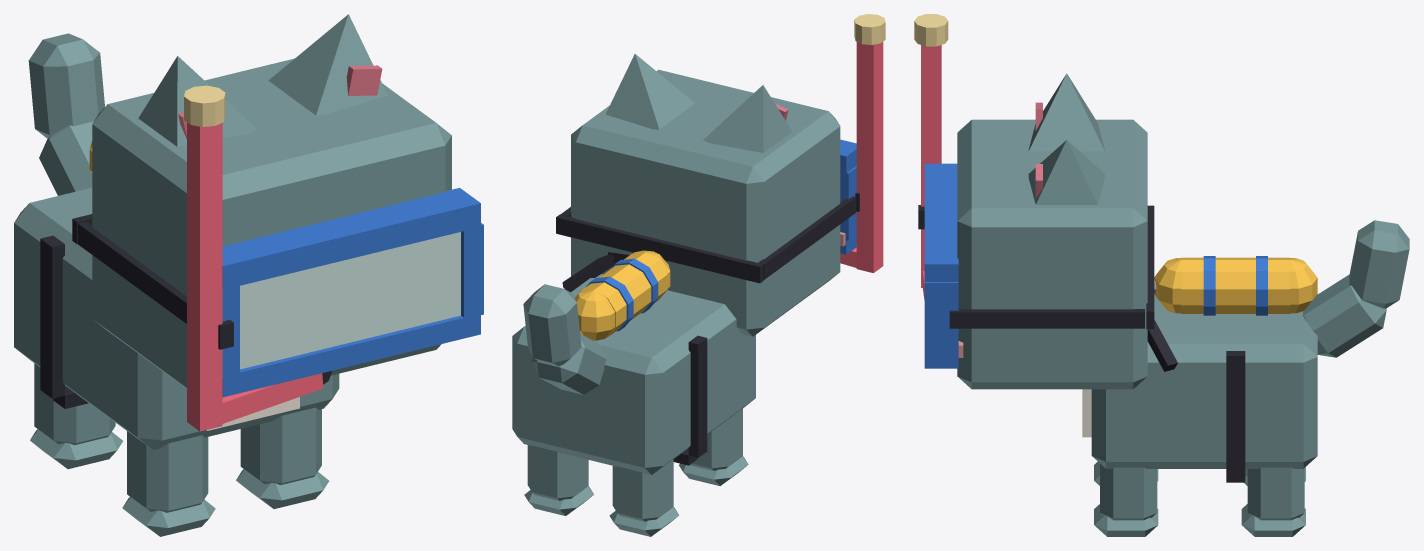
The model's file is CatCafe_Cat_Glimmer.fbx.
The picture shows the model from 3 angles, left to right: view 1: azimuth 30°, elevation 25°; view 2: azimuth 150°, elevation 25°; view 3: azimuth 270°, elevation 25°; orthographic projection. The views are drawn at different scales.
Visible parts, largest first — view 1: CatCafe_Cat_Glimmer_Head, CatCafe_Cat_Glimmer_Prop, CatCafe_Cat_Glimmer_Body, CatCafe_Cat_Glimmer_Prop_Glass, CatCafe_Cat_Glimmer_Tail, CatCafe_Cat_Glimmer_LegF2, CatCafe_Cat_Glimmer_LegF1, CatCafe_Cat_Glimmer_EarL, CatCafe_Cat_Glimmer_LegB2, CatCafe_Cat_Glimmer_Prop2, CatCafe_Cat_Glimmer_EarR; view 2: CatCafe_Cat_Glimmer_Head, CatCafe_Cat_Glimmer_Body, CatCafe_Cat_Glimmer_Prop, CatCafe_Cat_Glimmer_Prop2, CatCafe_Cat_Glimmer_Tail, CatCafe_Cat_Glimmer_LegB2, CatCafe_Cat_Glimmer_EarL, CatCafe_Cat_Glimmer_LegB1, CatCafe_Cat_Glimmer_EarR, CatCafe_Cat_Glimmer_LegF2; view 3: CatCafe_Cat_Glimmer_Head, CatCafe_Cat_Glimmer_Body, CatCafe_Cat_Glimmer_Prop, CatCafe_Cat_Glimmer_Prop2, CatCafe_Cat_Glimmer_Tail, CatCafe_Cat_Glimmer_LegF1, CatCafe_Cat_Glimmer_LegB1, CatCafe_Cat_Glimmer_EarR, CatCafe_Cat_Glimmer_EarL.
Part boxes in pixels (x1,y1,x2,y2): CatCafe_Cat_Glimmer_Head: (92,58,451,388); CatCafe_Cat_Glimmer_Prop: (72,85,483,431); CatCafe_Cat_Glimmer_Body: (14,187,339,449); CatCafe_Cat_Glimmer_Prop_Glass: (240,232,460,369); CatCafe_Cat_Glimmer_Tail: (28,33,104,195); CatCafe_Cat_Glimmer_LegF2: (122,431,215,536); CatCafe_Cat_Glimmer_LegF1: (236,407,328,508); CatCafe_Cat_Glimmer_EarL: (268,14,387,115); CatCafe_Cat_Glimmer_LegB2: (30,363,122,469); CatCafe_Cat_Glimmer_Prop2: (40,141,92,408); CatCafe_Cat_Glimmer_EarR: (138,56,257,146); CatCafe_Cat_Glimmer_Head: (571,69,845,336); CatCafe_Cat_Glimmer_Body: (512,274,755,475); CatCafe_Cat_Glimmer_Prop: (556,14,885,283); CatCafe_Cat_Glimmer_Prop2: (562,250,707,465); CatCafe_Cat_Glimmer_Tail: (523,284,606,394); CatCafe_Cat_Glimmer_LegB2: (609,459,679,536); CatCafe_Cat_Glimmer_EarL: (605,54,694,129); CatCafe_Cat_Glimmer_LegB1: (524,445,593,515); CatCafe_Cat_Glimmer_EarR: (703,85,792,152); CatCafe_Cat_Glimmer_LegF2: (679,408,748,485); CatCafe_Cat_Glimmer_Head: (957,119,1147,389); CatCafe_Cat_Glimmer_Body: (1082,294,1317,468); CatCafe_Cat_Glimmer_Prop: (914,14,1154,368); CatCafe_Cat_Glimmer_Prop2: (1147,256,1317,482); CatCafe_Cat_Glimmer_Tail: (1303,220,1409,357); CatCafe_Cat_Glimmer_LegF1: (1094,463,1158,536); CatCafe_Cat_Glimmer_LegB1: (1241,467,1305,536); CatCafe_Cat_Glimmer_EarR: (1028,73,1104,151); CatCafe_Cat_Glimmer_EarL: (1028,140,1104,204).
Size of the model in its own units: 1.15 by 2 by 2.08.
1 material, 1 textured.
